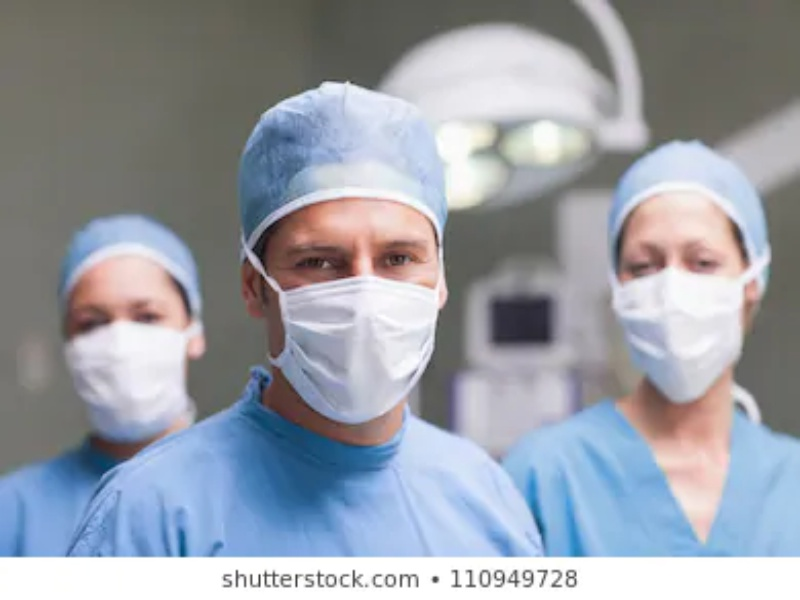ManaoArotava: (235, 107, 459, 448), (594, 141, 784, 422), (39, 202, 224, 456)
